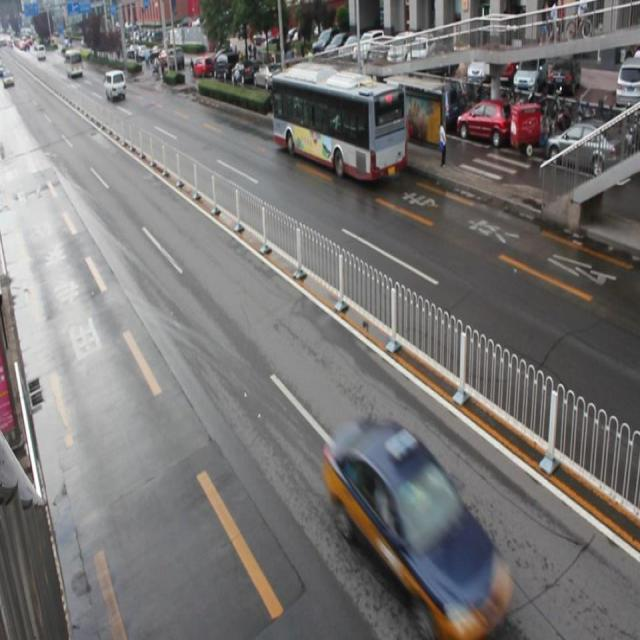car: (325, 417, 509, 640)
van: (269, 64, 407, 180)
